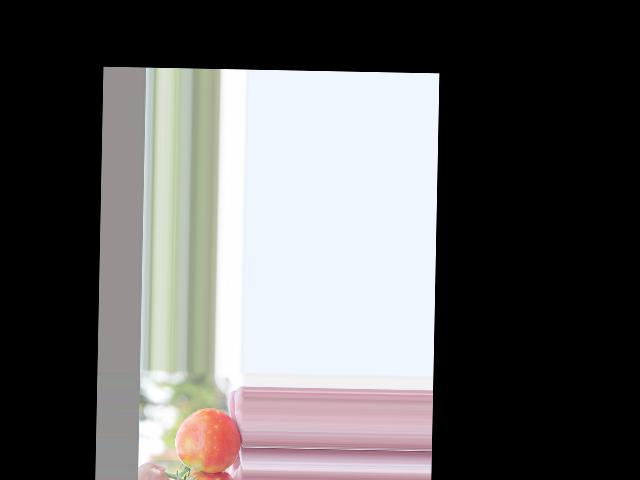tomato: (174, 407, 241, 472)
